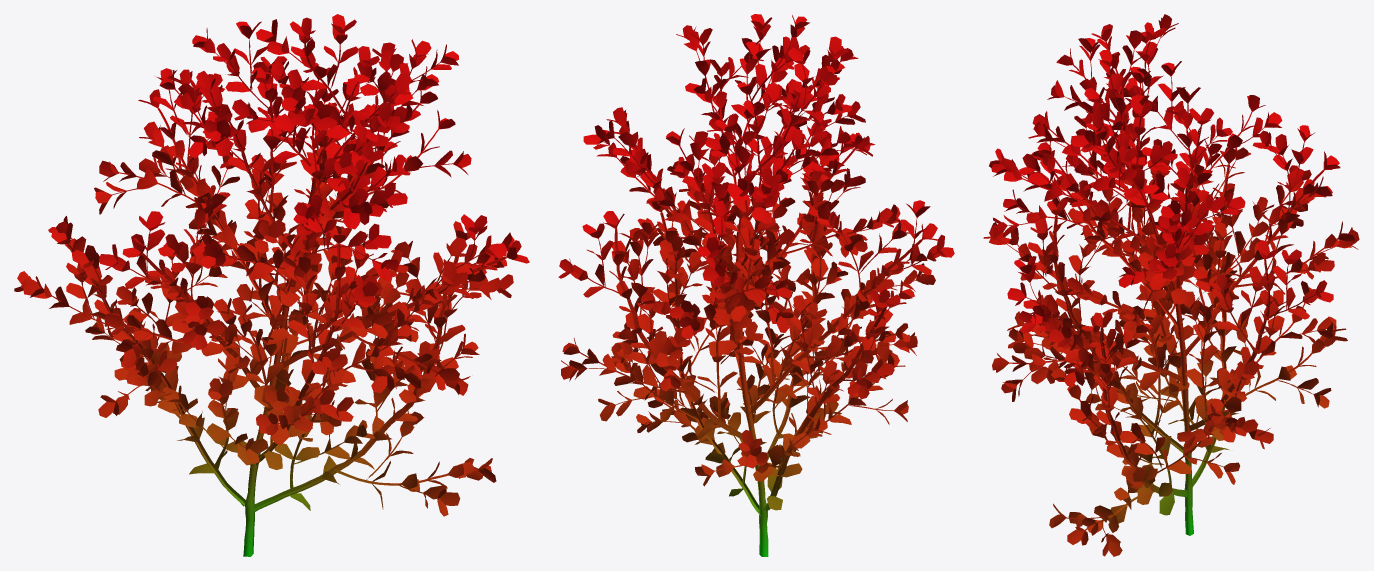
File: Var1_LOD2.fbx
3 renders of one model, left to right at view 1: azimuth 30°, elevation 25°; view 2: azimuth 150°, elevation 25°; view 3: azimuth 270°, elevation 25°, orthographic. The views are drawn at different scales.
Parts seen in each view (by area): view 1: _y5cj_Var1_LOD2; view 2: _y5cj_Var1_LOD2; view 3: _y5cj_Var1_LOD2.
Boxes of the visible parts, x1,y1,x2,y2 form: _y5cj_Var1_LOD2: (14,14,529,556); _y5cj_Var1_LOD2: (558,14,954,556); _y5cj_Var1_LOD2: (983,14,1359,556).
Size of the model in its own units: 48.37 by 68.79 by 45.86.
